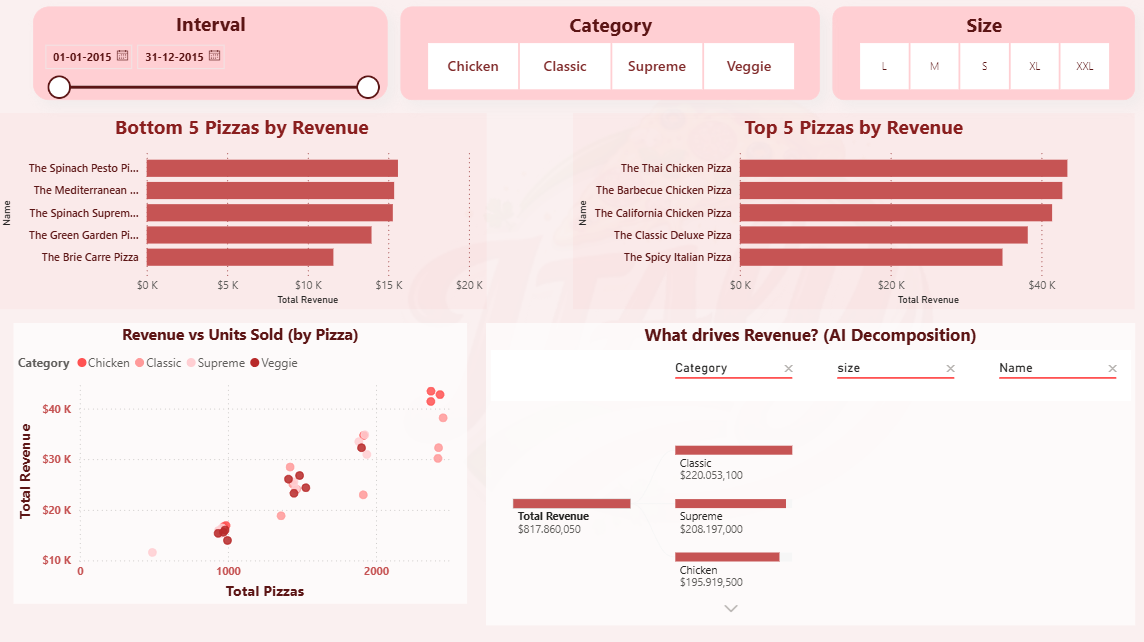

What the dashboard file says about the page in this screenshot:
{"tool":"powerbi","page":{"name":"Page 3 - Product & Menu","canvas":[1280,720],"ordinal":2},"visuals":[{"type":"image","box":[208,0,1072,720],"z":0},{"type":"shape","box":[0,0,1280,719.7],"z":1000},{"type":"slicer","title":"Interval","fields":{"Values":["orders.date"]},"box":[40,8,394,104],"z":2000},{"type":"image","box":[1172,40,92,42],"z":3000},{"type":"slicer","title":"Size","fields":{"Values":["pizzas.size"]},"box":[928,8,336,104],"z":4000},{"type":"slicer","title":"Category","fields":{"Values":["pizza_types.Category"]},"box":[448,8,466,104],"z":5000},{"type":"barChart","title":"Top 5 Pizzas by Revenue","fields":{"Category":["pizza_types.Name"],"Y":["Medidas.Total Revenue"]},"box":[640,126,624,218],"z":6000},{"type":"barChart","title":"Bottom 5 Pizzas by Revenue","fields":{"Category":["pizza_types.Name"],"Y":["Medidas.Total Revenue"]},"box":[0,126,544,218],"z":7000},{"type":"scatterChart","title":"Revenue vs Units Sold (by Pizza)","fields":{"X":["Medidas.Total Pizzas"],"Y":["Medidas.Total Revenue"],"Series":["pizza_types.Category"],"Category":["pizza_types.Name"]},"box":[18.8,359.8,503.8,311.9],"z":8000},{"type":"decompositionTreeVisual","title":"What drives Revenue? (AI Decomposition)","fields":{"Analyze":["Medidas.Total Revenue"],"ExplainBy":["pizza_types.Category","pizzas.size","pizza_types.Name"]},"box":[543.2,359.8,721.4,335.9],"z":9000}]}

Visuals, with their boxes in screenshot pixels (x1, y1, x2, y2), scaled from the page's 1280x720 canvas onto the 1144x642 screenshot:
image: 186, 0, 1143, 641
shape: 0, 0, 1143, 641
"Interval" slicer: 36, 7, 388, 100
image: 1047, 36, 1130, 73
"Size" slicer: 829, 7, 1130, 100
"Category" slicer: 400, 7, 817, 100
"Top 5 Pizzas by Revenue" barChart: 572, 112, 1130, 307
"Bottom 5 Pizzas by Revenue" barChart: 0, 112, 486, 307
"Revenue vs Units Sold (by Pizza)" scatterChart: 17, 321, 467, 599
"What drives Revenue? (AI Decomposition)" decompositionTreeVisual: 485, 321, 1130, 620
